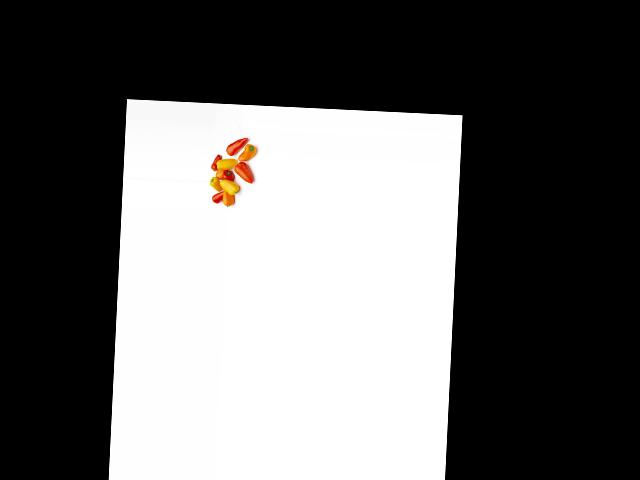bell_pepper: (210, 152, 220, 172)
